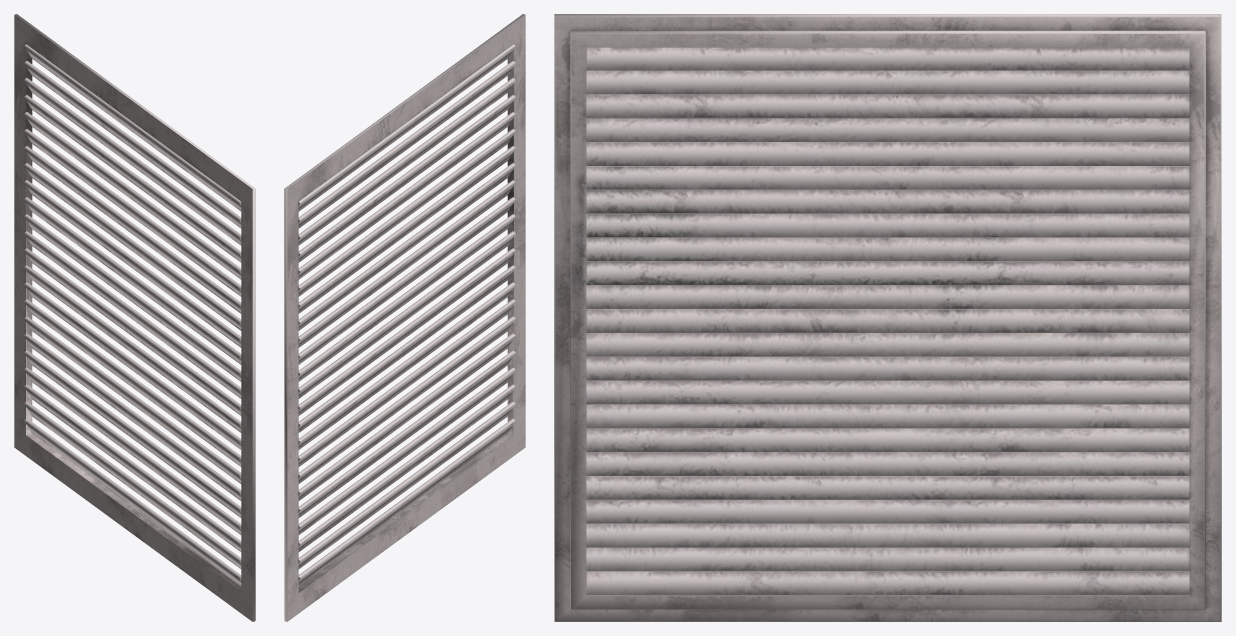
The model's file is maintenance-vent-cover.glb.
The picture shows the model from 3 angles, left to right: view 1: azimuth 30°, elevation 25°; view 2: azimuth 150°, elevation 25°; view 3: azimuth 270°, elevation 25°; orthographic projection. The views are drawn at different scales.
Visible parts, largest first — view 1: Cube; view 2: Cube; view 3: Cube.
Boxes of the visible parts, bbox=[...] form: Cube: bbox=[14, 14, 255, 621]; Cube: bbox=[284, 14, 525, 621]; Cube: bbox=[554, 14, 1221, 621].
Size of the model in its own units: 3.37 by 125 by 125.
1 material, 1 textured.
